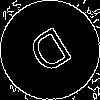D: (25, 25, 80, 84)
